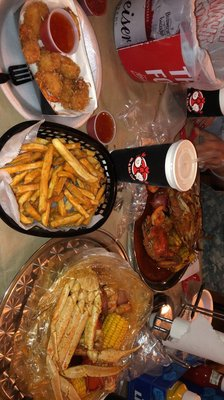sushi: (0, 115, 117, 238)
